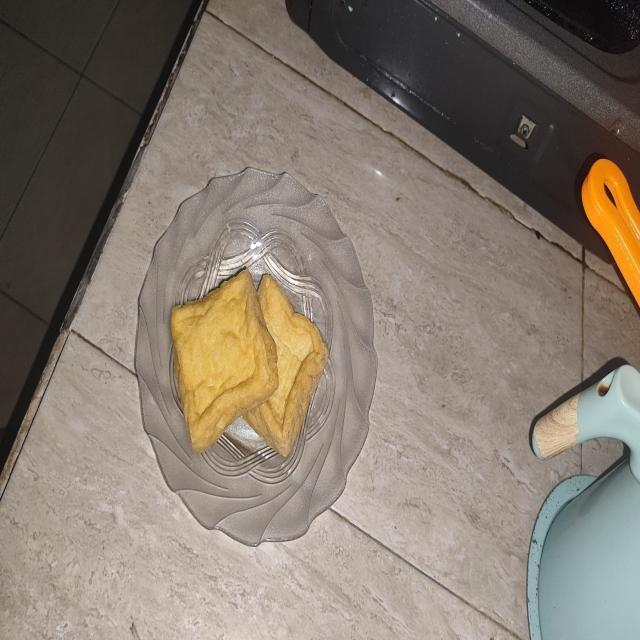tahu_goreng: (171, 270, 279, 452), (242, 275, 328, 456)
